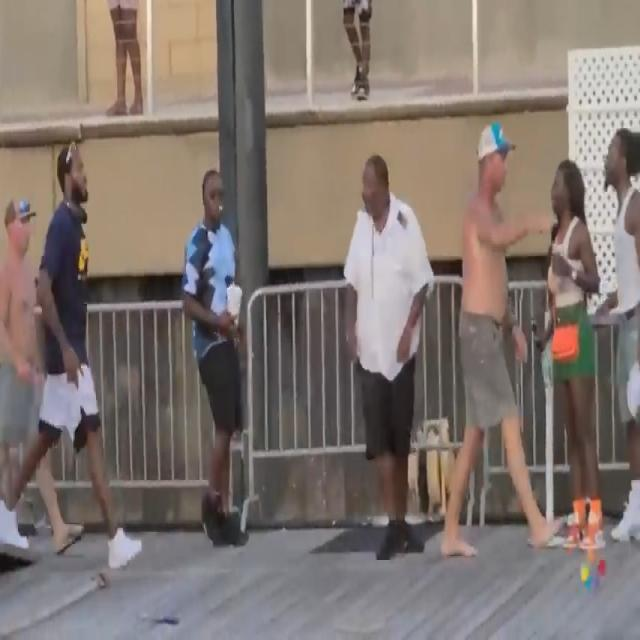non-fight: (333, 117, 640, 568), (2, 131, 258, 579)
